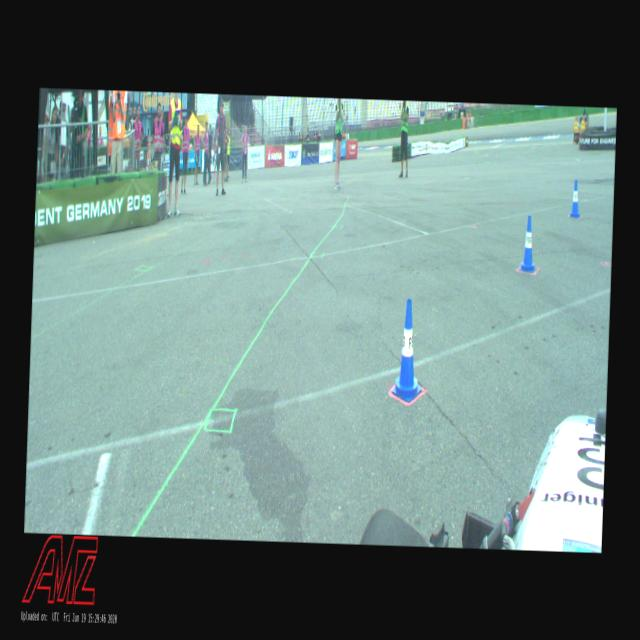blue_cone: (392, 298, 424, 402), (520, 215, 536, 270), (569, 180, 581, 217)
